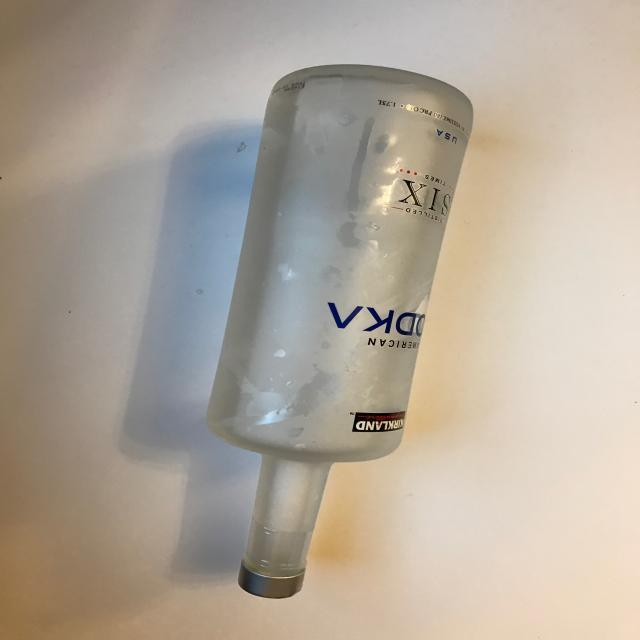glass: (206, 64, 477, 601)
